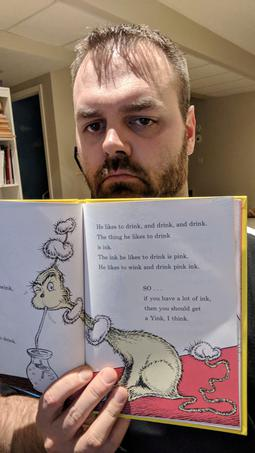text block: (134, 281, 217, 328), (91, 243, 211, 274), (91, 215, 211, 242)
